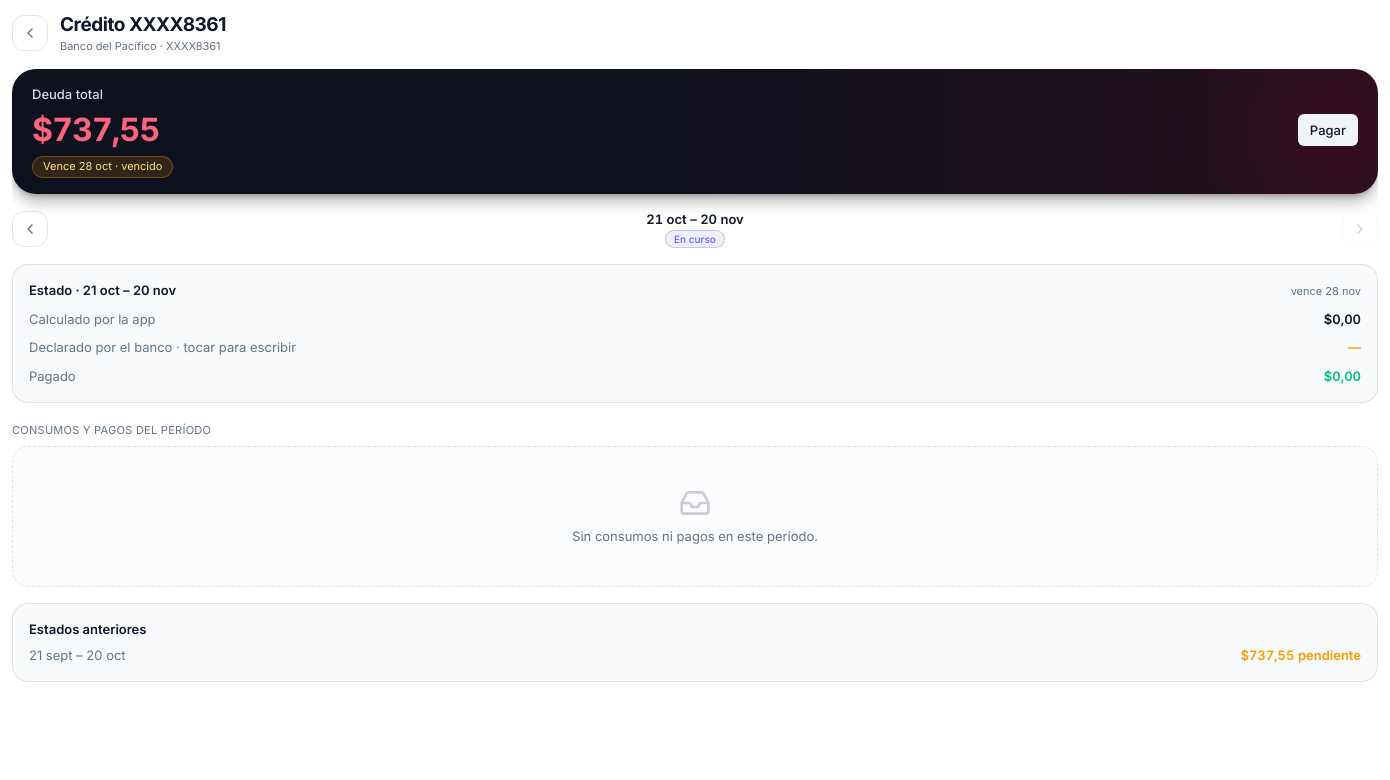
Test: CardDetailClient — selector de período › con la flecha va al período anterior y enseña sus movimientos
The image size is (1390, 780).
Click the button named "Período anterior": (30, 229) [12, 211, 48, 247]
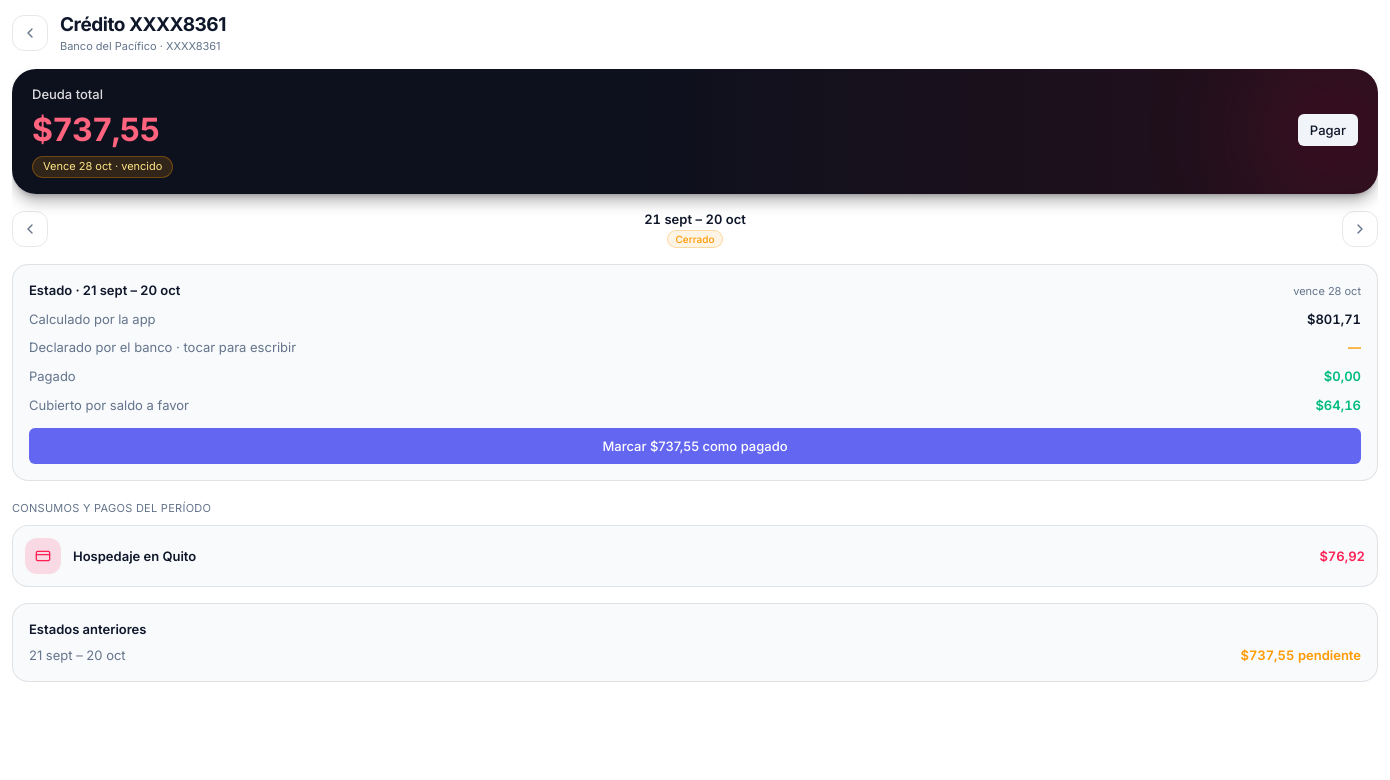
Check: the text "Cerrado" is shown, box [666, 230, 723, 248]
Check: the text "Hospedaje en Quito" is shown, box [73, 548, 196, 564]
